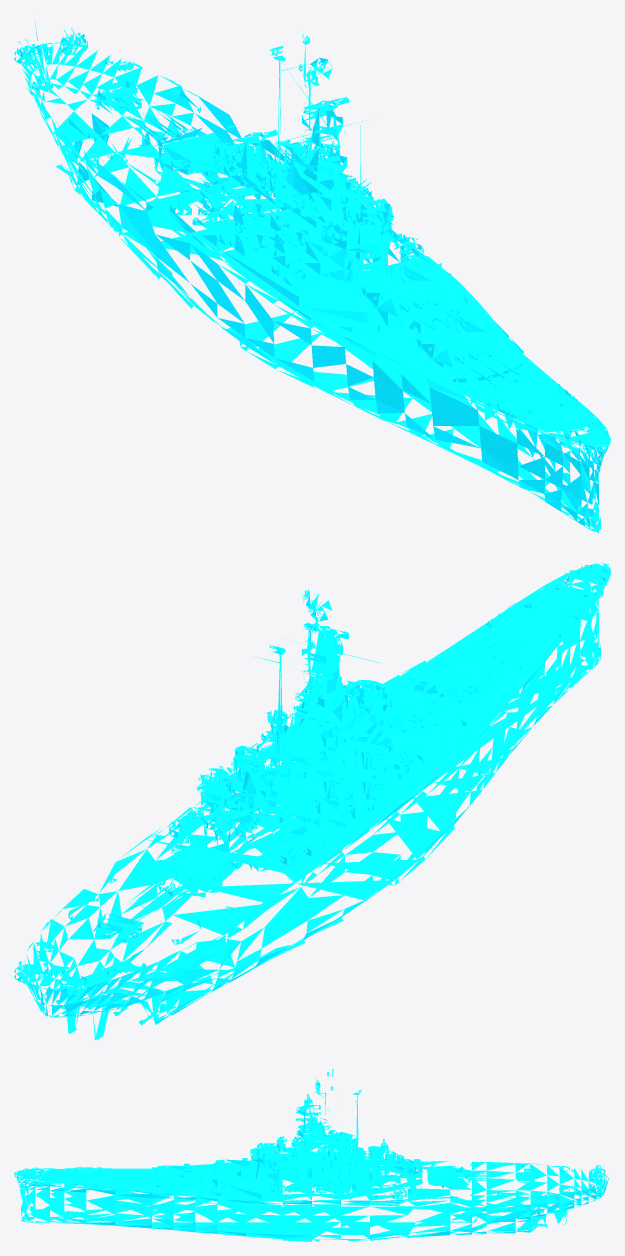
Rendered from PASB508.glb.
3 renders of one model, top to bottom at view 1: azimuth 30°, elevation 25°; view 2: azimuth 150°, elevation 25°; view 3: azimuth 270°, elevation 25°, orthographic. The views are drawn at different scales.
Visible parts, largest first — view 1: hull, turret; view 2: hull, turret; view 3: hull, turret.
Boxes of the visible parts, x1,y1,x2,y2 form: hull: (14,19,610,533); turret: (128,109,520,382); hull: (14,562,610,1040); turret: (129,636,520,911); hull: (14,1069,608,1241); turret: (119,1146,500,1192).
Size of the model in its own units: 2.23 by 3.93 by 13.88.
